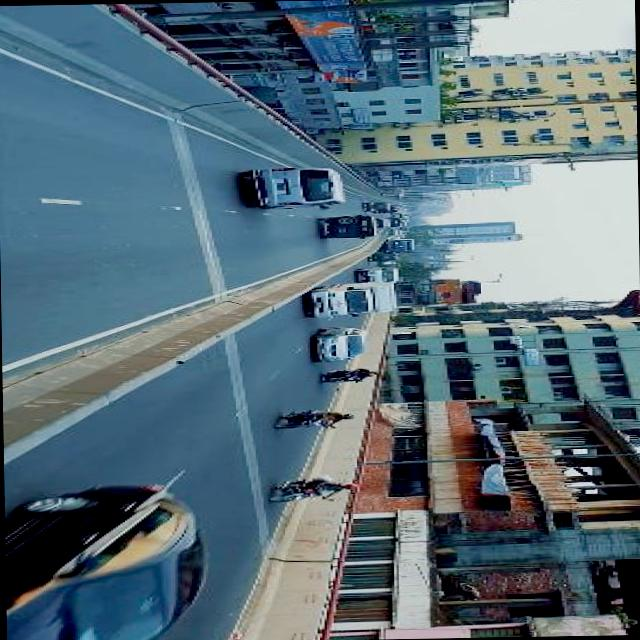car: (313, 324, 373, 362)
motorcycle: (266, 472, 364, 504), (272, 404, 359, 431), (318, 365, 382, 384), (366, 200, 396, 212)
truck: (242, 163, 348, 210), (303, 276, 400, 318), (357, 264, 401, 282)
